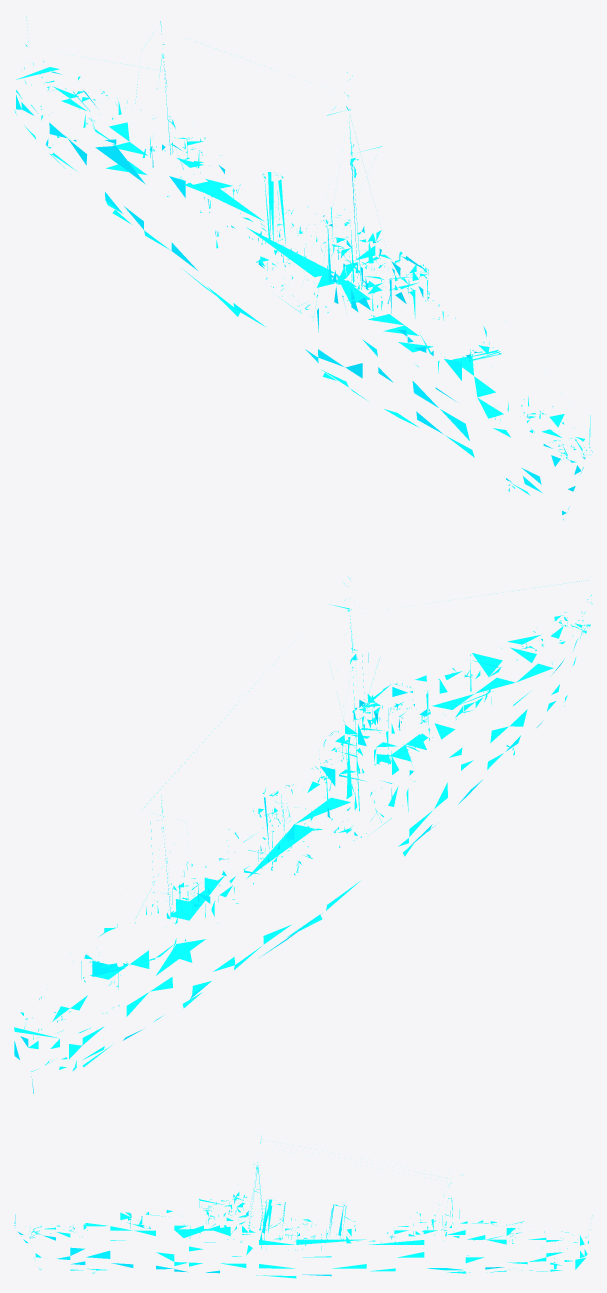
The model's file is Cossack.glb.
The picture shows the model from 3 angles, top to bottom: view 1: azimuth 30°, elevation 25°; view 2: azimuth 150°, elevation 25°; view 3: azimuth 270°, elevation 25°; orthographic projection. The views are drawn at different scales.
Bounding box in the file's own units: 0.7395 × 2.25 × 7.72.
